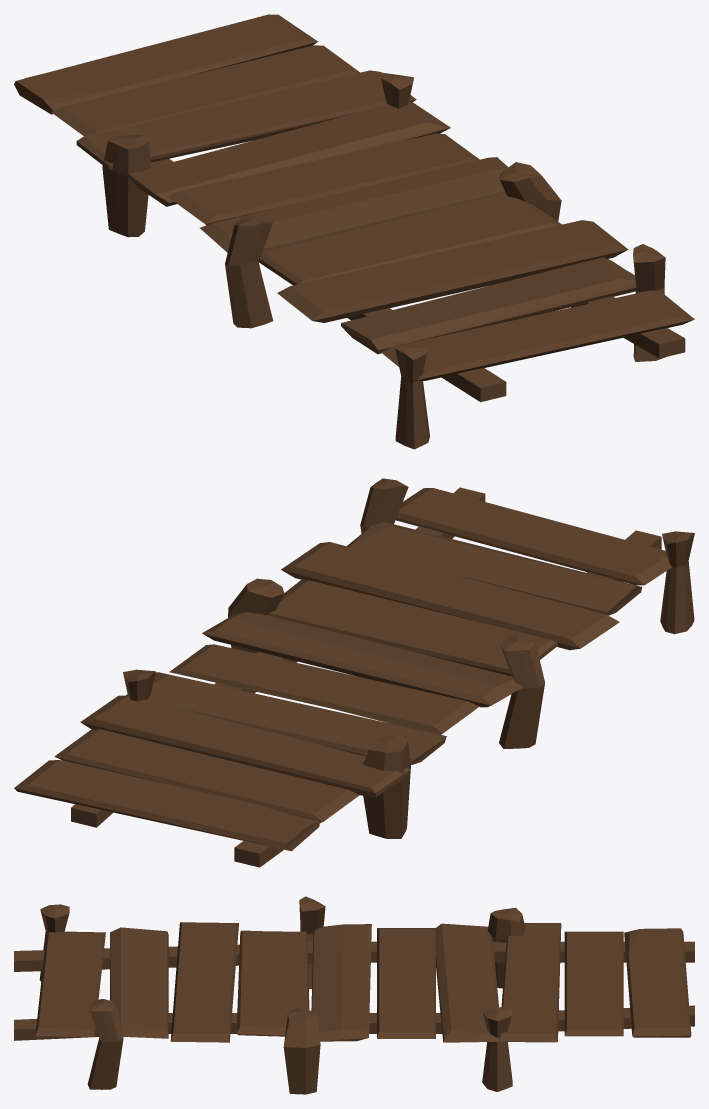
Rendered from pontoon.glb.
3 views of the same model, one above another, from view 1: azimuth 30°, elevation 25°; view 2: azimuth 150°, elevation 25°; view 3: azimuth 270°, elevation 25° (orthographic). The views are drawn at different scales.
Parts seen in each view (by area): view 1: pontoon; view 2: pontoon; view 3: pontoon.
Boxes of the visible parts, box(x1,y1,x2,y2) form: pontoon: box(14, 14, 694, 449); pontoon: box(14, 478, 694, 867); pontoon: box(14, 896, 694, 1094).
Size of the model in its own units: 4.6 by 1.4 by 10.7.
